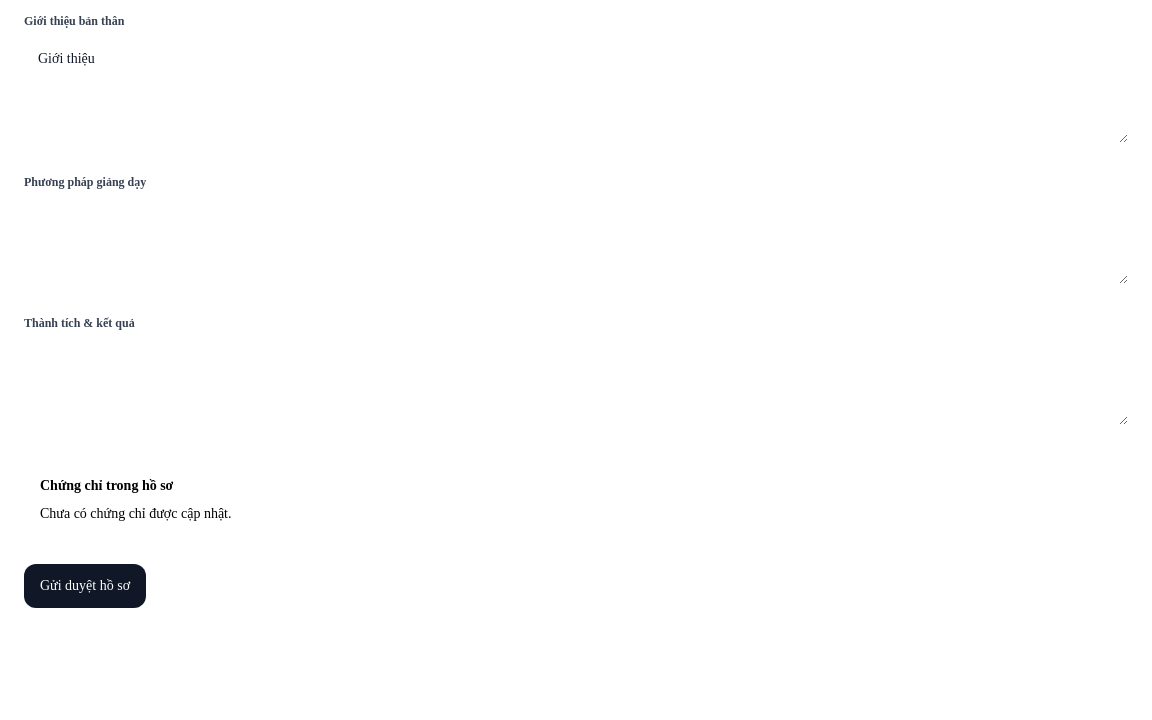
Test case: submits the saved version and displays pending state
This screenshot has width=1152, height=720.
(page scrolled)
Click the button "Gửi duyệt hồ sơ": (85, 586) left=24, top=564, right=146, bottom=608
(page scrolled)
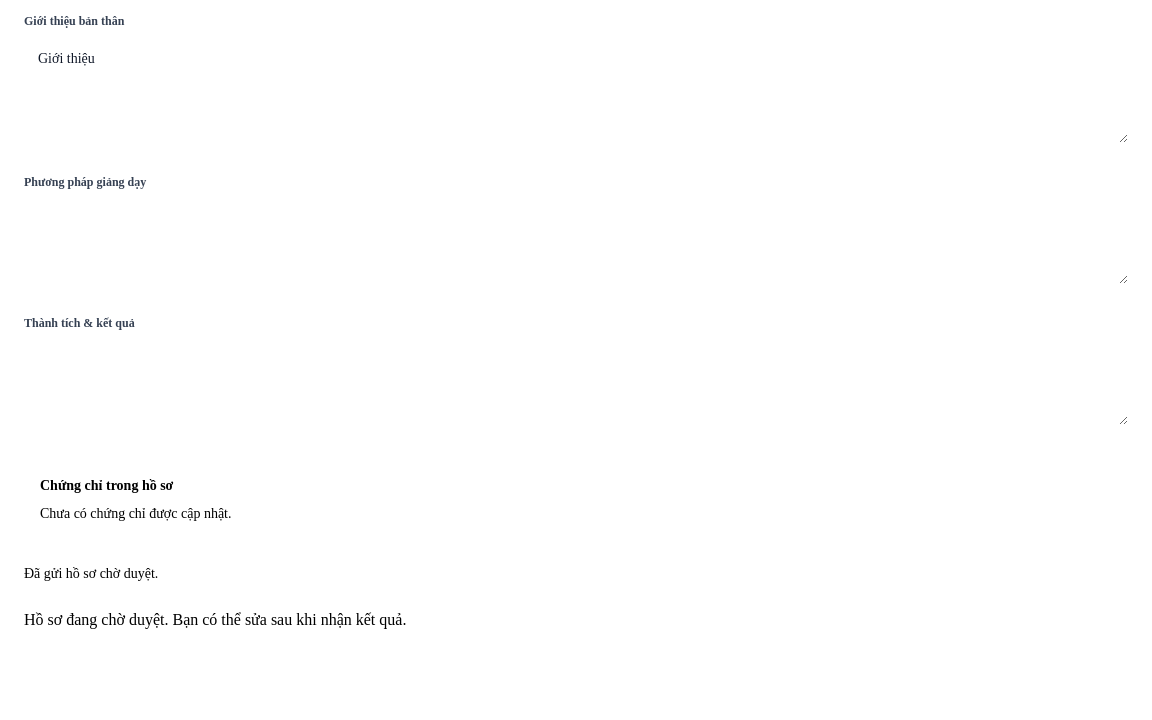
Now the text "Đã gửi hồ sơ chờ duyệt." is shown, box left=24, top=566, right=158, bottom=581
